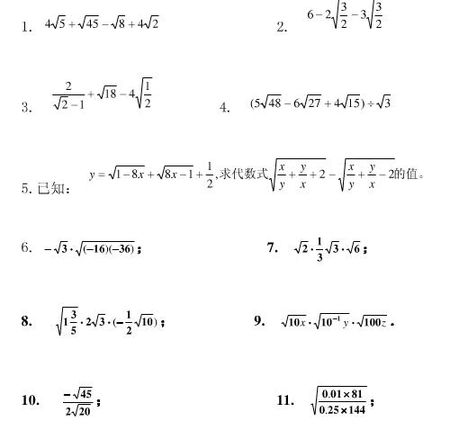division: (50, 87, 88, 100), (60, 399, 98, 409), (311, 398, 371, 404), (270, 171, 288, 179), (342, 171, 358, 180), (337, 10, 349, 19), (138, 91, 156, 97), (372, 12, 383, 21), (203, 172, 215, 180), (67, 319, 81, 325), (297, 171, 307, 178), (363, 172, 378, 176)
sqrt: (268, 154, 327, 193), (310, 384, 369, 418), (339, 156, 394, 191), (78, 239, 136, 259), (55, 305, 81, 339), (107, 162, 146, 183), (158, 161, 194, 181), (358, 313, 391, 334), (280, 311, 310, 332), (316, 310, 349, 329), (136, 76, 154, 108), (77, 13, 102, 32), (301, 90, 322, 112), (98, 82, 119, 103), (133, 311, 156, 330), (74, 383, 95, 403), (374, 91, 394, 111), (261, 92, 283, 110), (110, 10, 127, 33), (342, 93, 363, 111), (90, 312, 109, 330), (51, 11, 68, 31), (142, 13, 160, 31), (324, 238, 342, 256), (71, 402, 90, 418), (53, 95, 70, 111), (294, 239, 310, 255), (54, 239, 70, 254), (346, 240, 360, 254)
